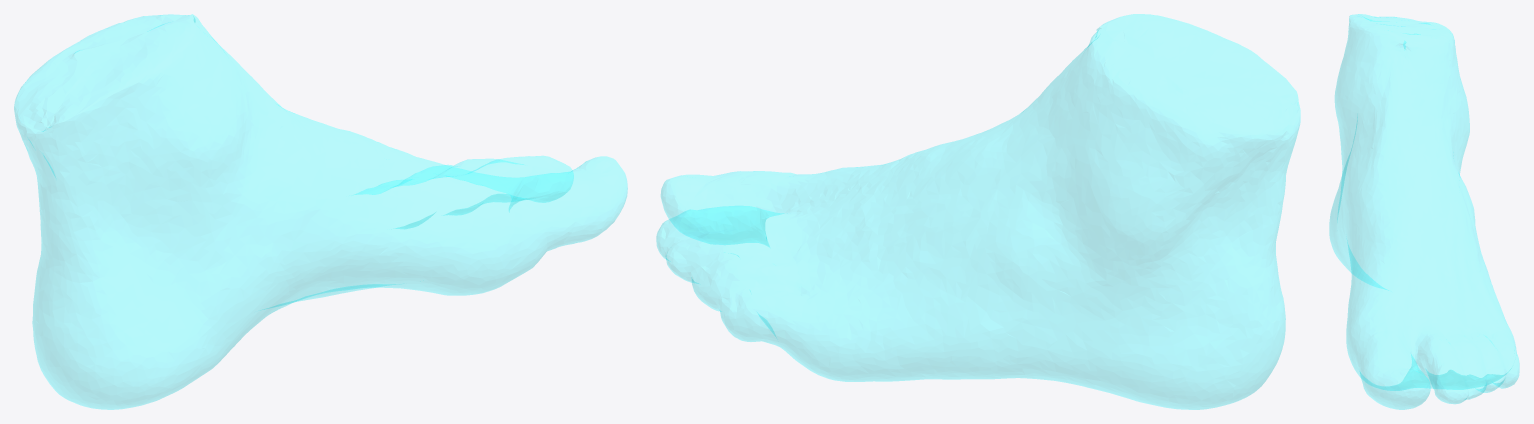
File: foot_holo.glb
3 renders of one model, left to right at view 1: azimuth 30°, elevation 25°; view 2: azimuth 150°, elevation 25°; view 3: azimuth 270°, elevation 25°, orthographic. The views are drawn at different scales.
Parts seen in each view (by area): view 1: geometry_0; view 2: geometry_0; view 3: geometry_0.
Part boxes in pixels (x1,y1,x2,y2): geometry_0: (14, 14, 627, 409); geometry_0: (656, 14, 1300, 409); geometry_0: (1329, 14, 1519, 409).
Bounding box in the file's own units: 0.2641 × 0.15 × 0.0965.
